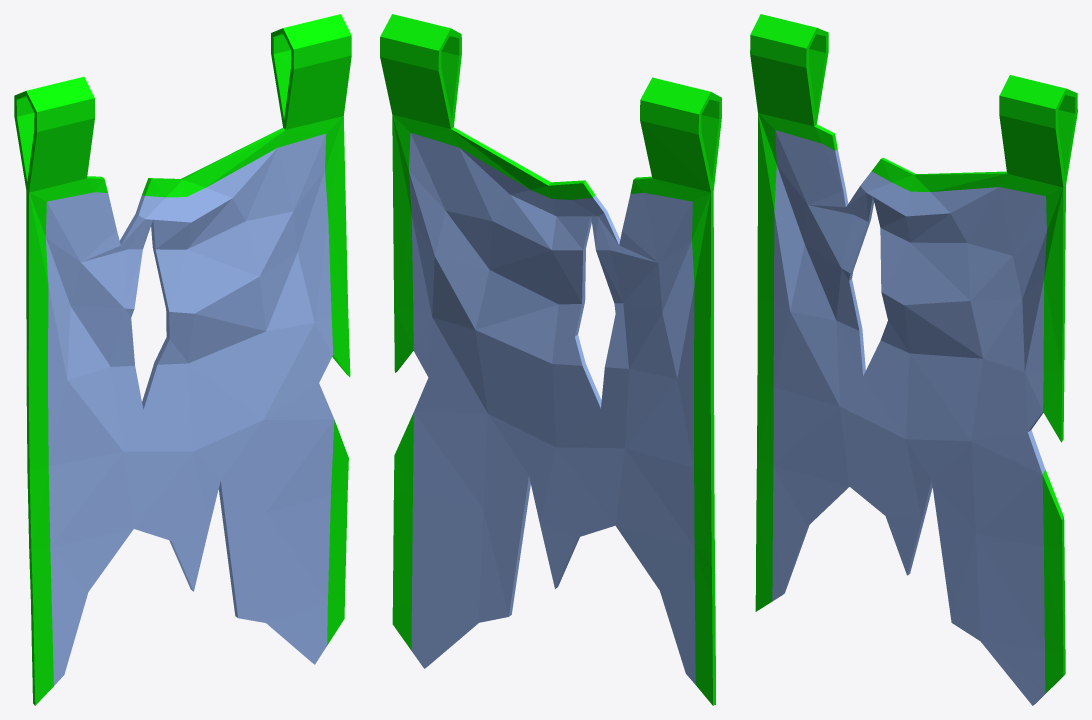
File: SM_Flag_Banner_Small_D_Broken_Fantasy.fbx
3 renders of one model, left to right at view 1: azimuth 30°, elevation 25°; view 2: azimuth 150°, elevation 25°; view 3: azimuth 330°, elevation 25°, orthographic. The views are drawn at different scales.
Visible parts, largest first — view 1: flag-banner-small-d-broken-fantasy; view 2: flag-banner-small-d-broken-fantasy; view 3: flag-banner-small-d-broken-fantasy.
Boxes of the visible parts, x1=… form: flag-banner-small-d-broken-fantasy: x1=14, y1=14, x2=351, y2=705; flag-banner-small-d-broken-fantasy: x1=380, y1=14, x2=721, y2=705; flag-banner-small-d-broken-fantasy: x1=750, y1=14, x2=1077, y2=705.
Bounding box in the file's own units: 0.663 × 1.28 × 0.0831.
